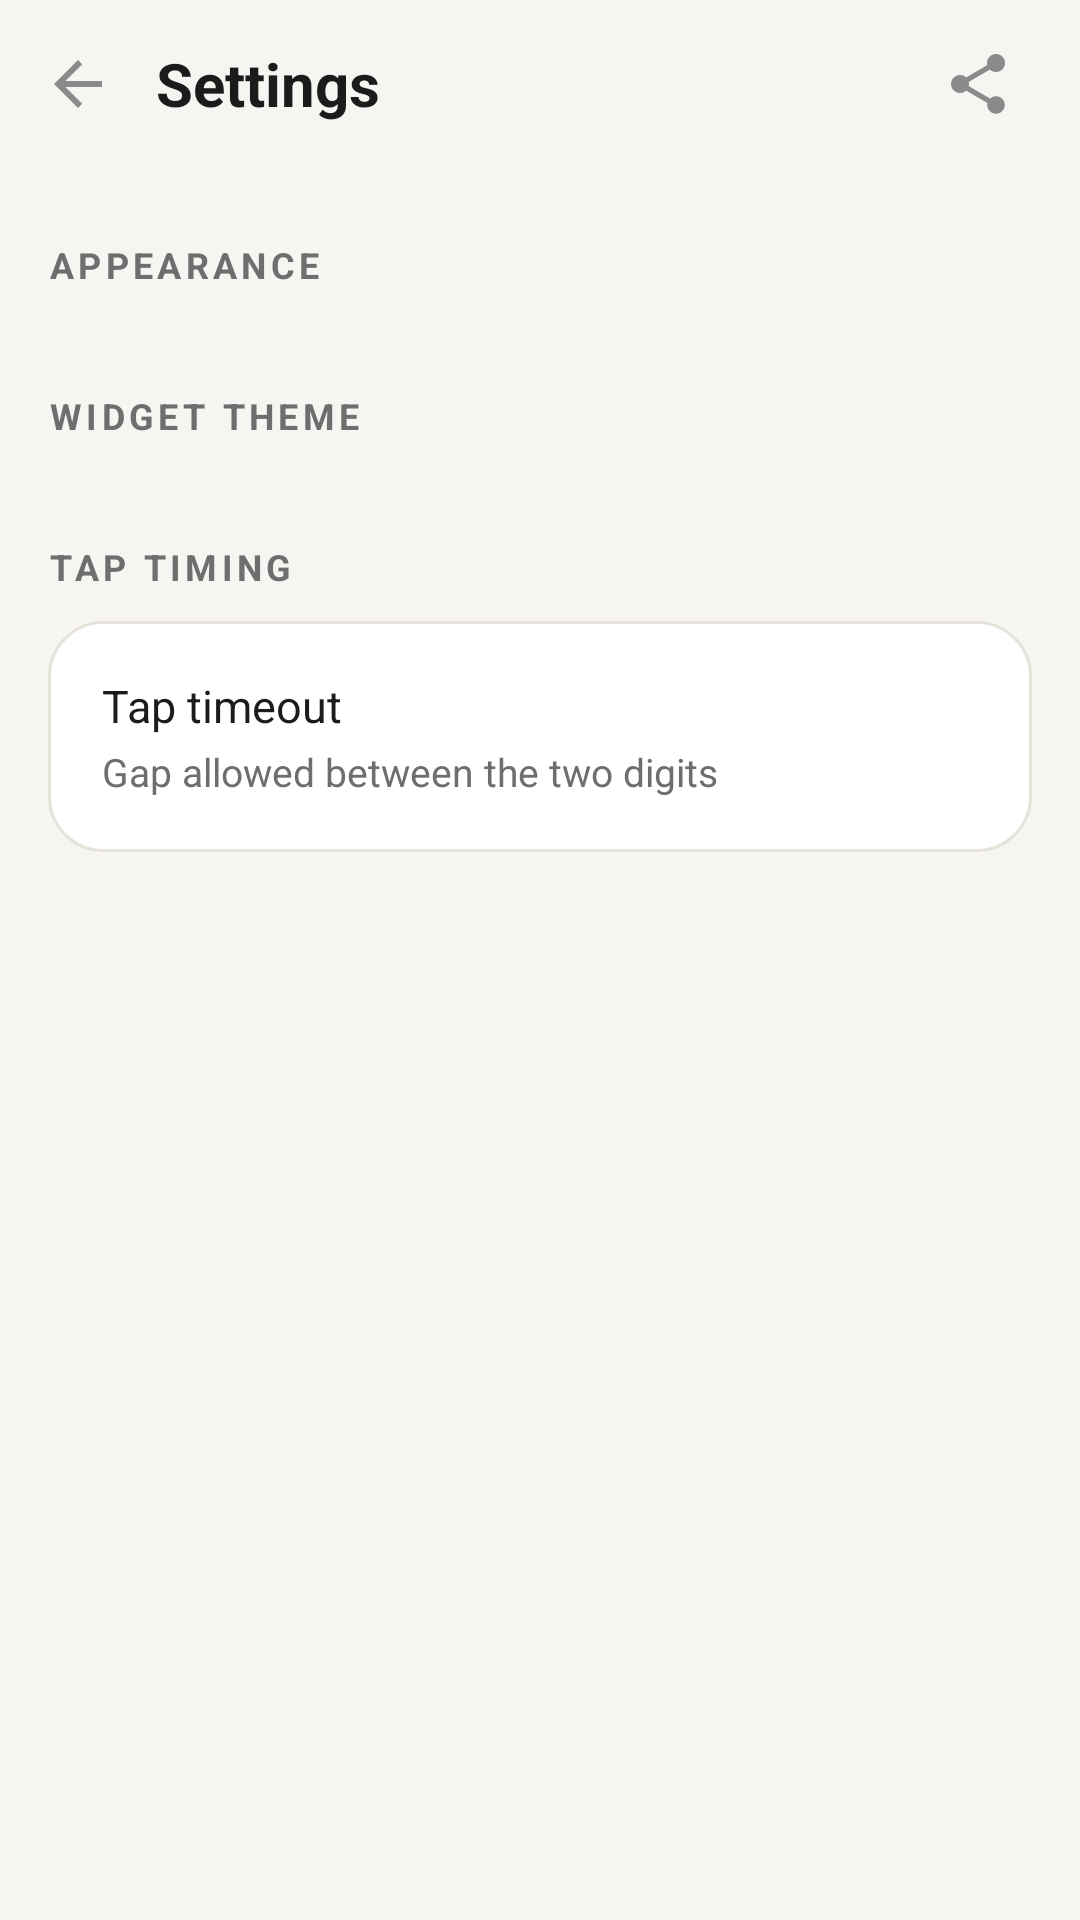

Point at icon controls on the screen. Image size 1080 × 1920, points as (x,y).
Back: (78,84)
Share: (978,84)
